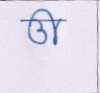i_matra: (40, 8, 63, 45)
